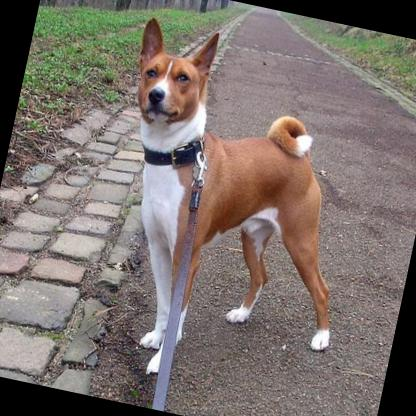basenji: (70, 10, 388, 410)
